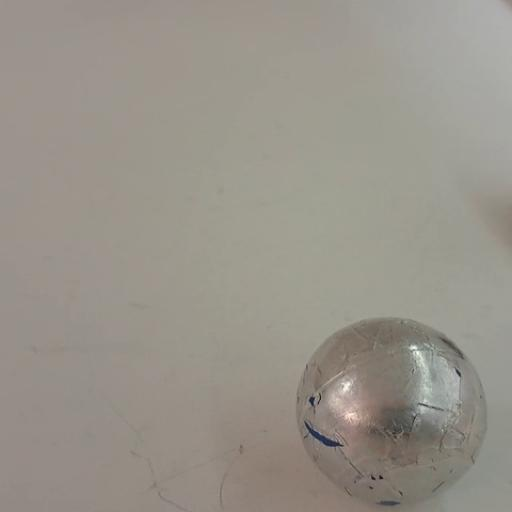alive: (293, 316, 490, 507)
